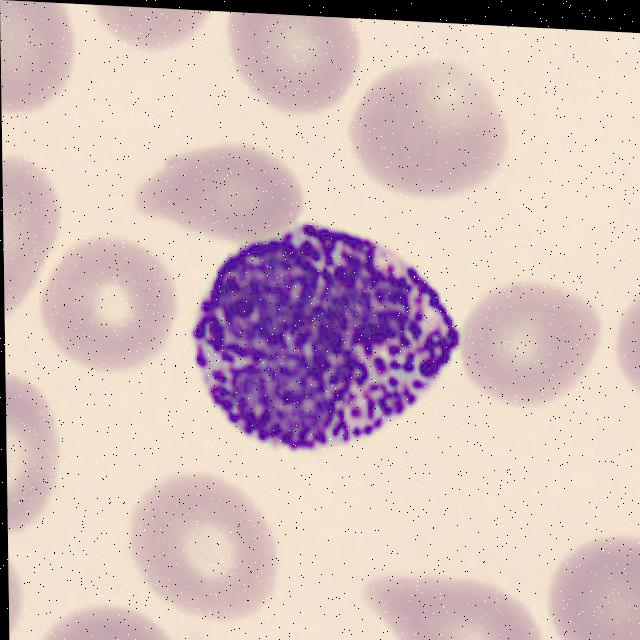basophil: (189, 214, 466, 474)
rbc: (361, 52, 526, 198), (32, 226, 186, 369), (130, 471, 278, 605), (465, 276, 606, 410), (120, 139, 313, 232), (357, 552, 535, 640), (227, 12, 362, 122), (2, 140, 76, 338), (547, 523, 640, 640), (6, 364, 66, 523), (0, 0, 80, 113), (89, 5, 222, 56), (43, 609, 196, 640), (614, 284, 640, 391), (8, 549, 27, 640)
